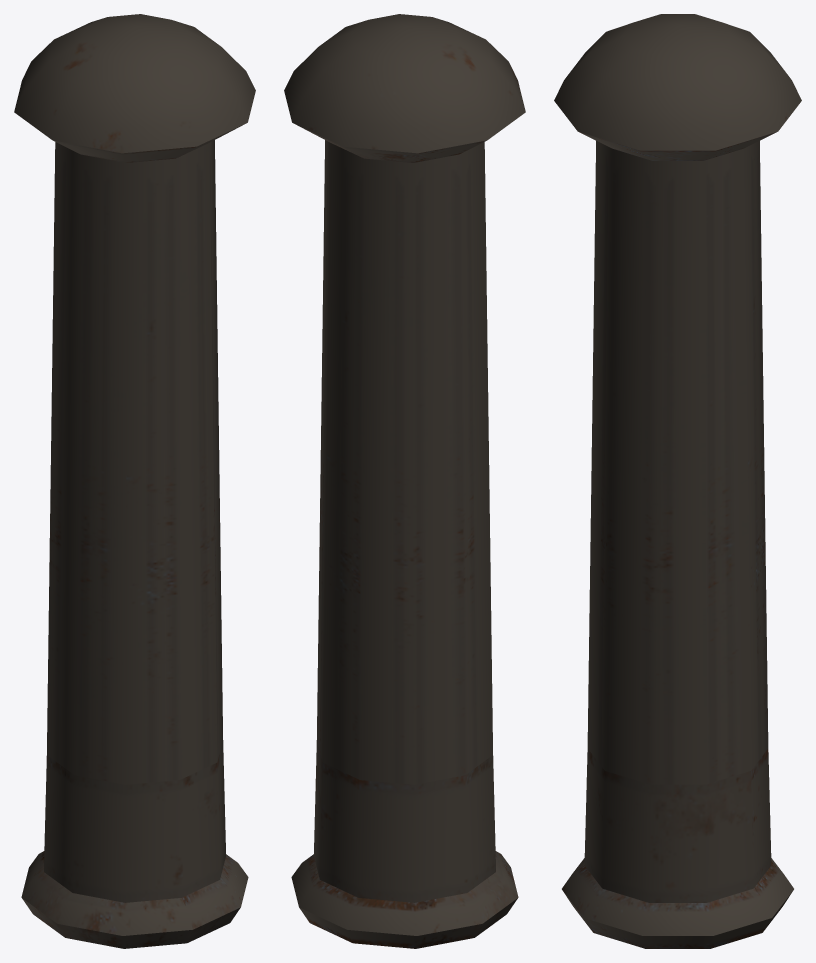
The model's file is Prop_Bollard.gltf.
The picture shows the model from 3 angles, left to right: view 1: azimuth 30°, elevation 25°; view 2: azimuth 150°, elevation 25°; view 3: azimuth 270°, elevation 25°; orthographic projection.
Visible parts, largest first — view 1: Prop_Bollard; view 2: Prop_Bollard; view 3: Prop_Bollard.
Part boxes in pixels (x1,y1,x2,y2): Prop_Bollard: (14, 14, 255, 948); Prop_Bollard: (284, 14, 525, 948); Prop_Bollard: (554, 14, 801, 948).
Size of the model in its own units: 0.2163 by 0.8918 by 0.2274.
1 material, 1 textured.
